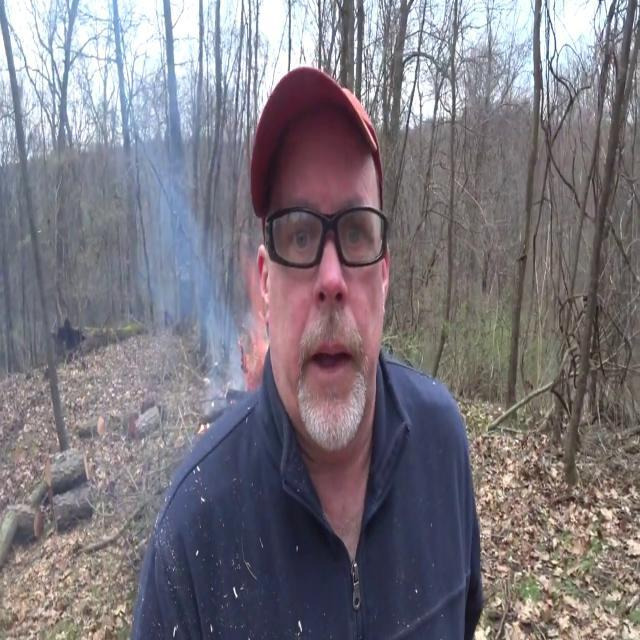Smoke: (119, 68, 239, 410)
